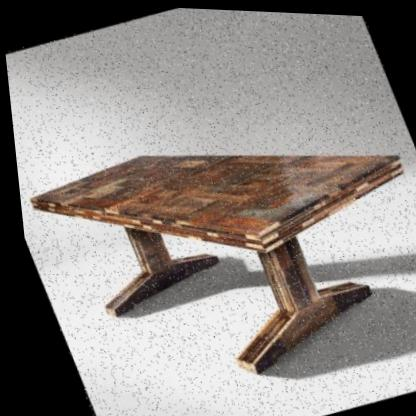Table: (2, 22, 416, 416)
